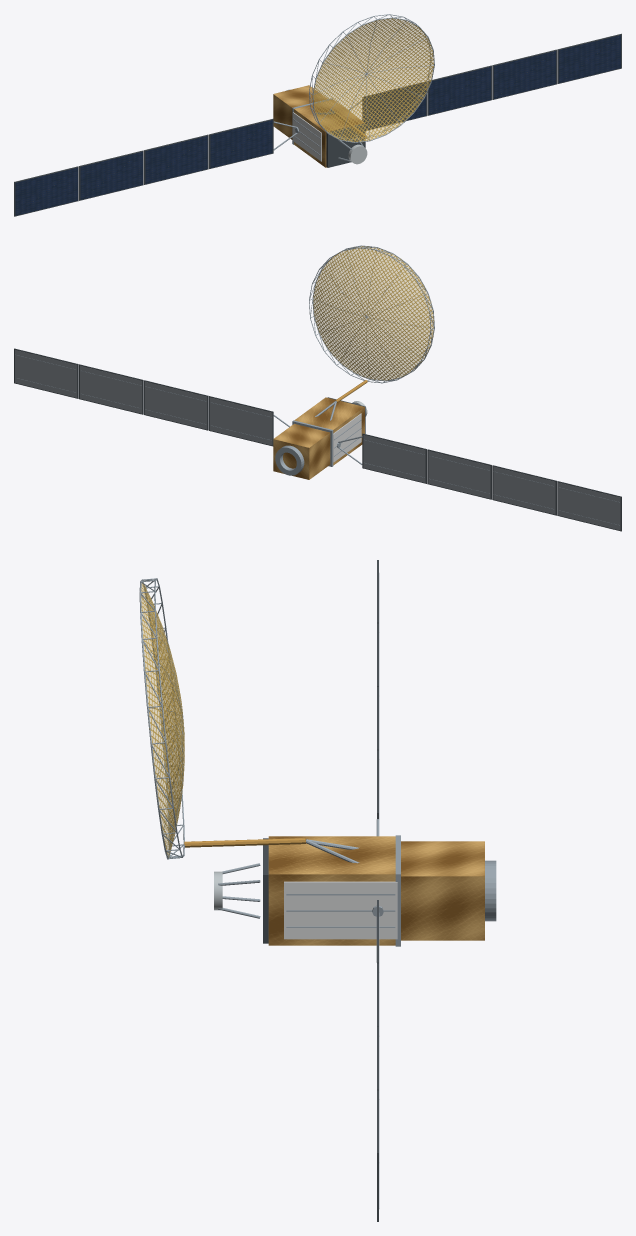
The model's file is inmarsat-4.glb.
3 renders of one model, top to bottom at view 1: azimuth 30°, elevation 25°; view 2: azimuth 150°, elevation 25°; view 3: azimuth 270°, elevation 25°, orthographic. The views are drawn at different scales.
Parts seen in each view (by area): view 1: Solar cell panel (×8), Deployable mesh reflector, Solar panel frame (×6), Payload module, Service module, Earth-facing deck, Radiator face, Antenna tower platform; view 2: Rear array substrate (×8), Deployable mesh reflector, Service module, Payload module, Radiator face, Launch adapter ring; view 3: Service module, Payload module, Radiator face, Deployable mesh reflector.
Part boxes in pixels (x1,y1,x2,y2): Solar cell panel (×8): (15, 35, 620, 215); Deployable mesh reflector: (313, 18, 434, 142); Solar panel frame (×6): (14, 33, 621, 216); Payload module: (294, 99, 364, 167); Service module: (273, 85, 327, 139); Earth-facing deck: (326, 123, 365, 167); Radiator face: (292, 112, 321, 161); Antenna tower platform: (348, 144, 367, 164); Rear array substrate (×8): (15, 350, 620, 530); Deployable mesh reflector: (313, 246, 434, 380); Service module: (273, 423, 330, 479); Payload module: (294, 397, 364, 465); Radiator face: (333, 413, 361, 462); Launch adapter ring: (275, 445, 304, 475); Service module: (401, 841, 484, 940); Payload module: (268, 836, 395, 945); Radiator face: (284, 881, 397, 939); Deployable mesh reflector: (141, 582, 184, 857).
Size of the model in its own units: 44.95 by 11.89 by 11.43.
Materials: 9 (3 with a texture image).
